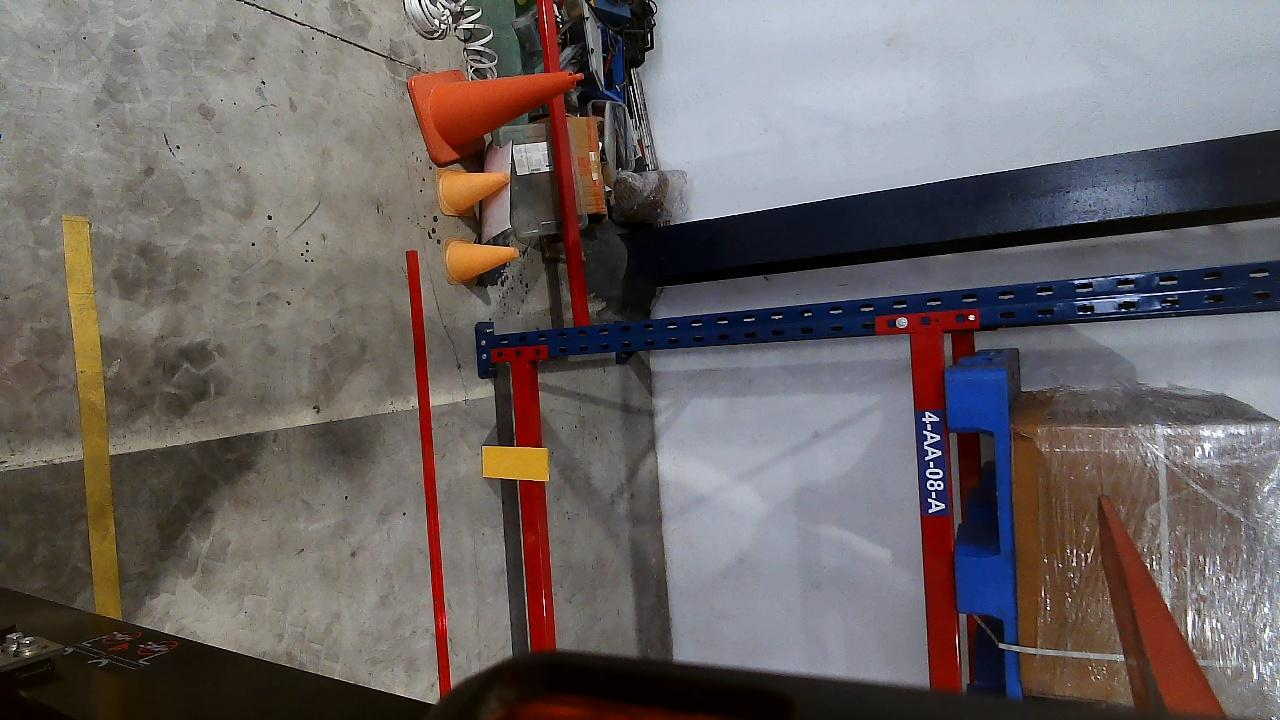h_rack: (908, 325, 962, 689), (508, 358, 556, 651)
orange_strip: (482, 446, 550, 480)
red_line: (409, 248, 452, 694)
small_pallet: (945, 372, 1016, 690)
yellow_line: (58, 214, 119, 617)
